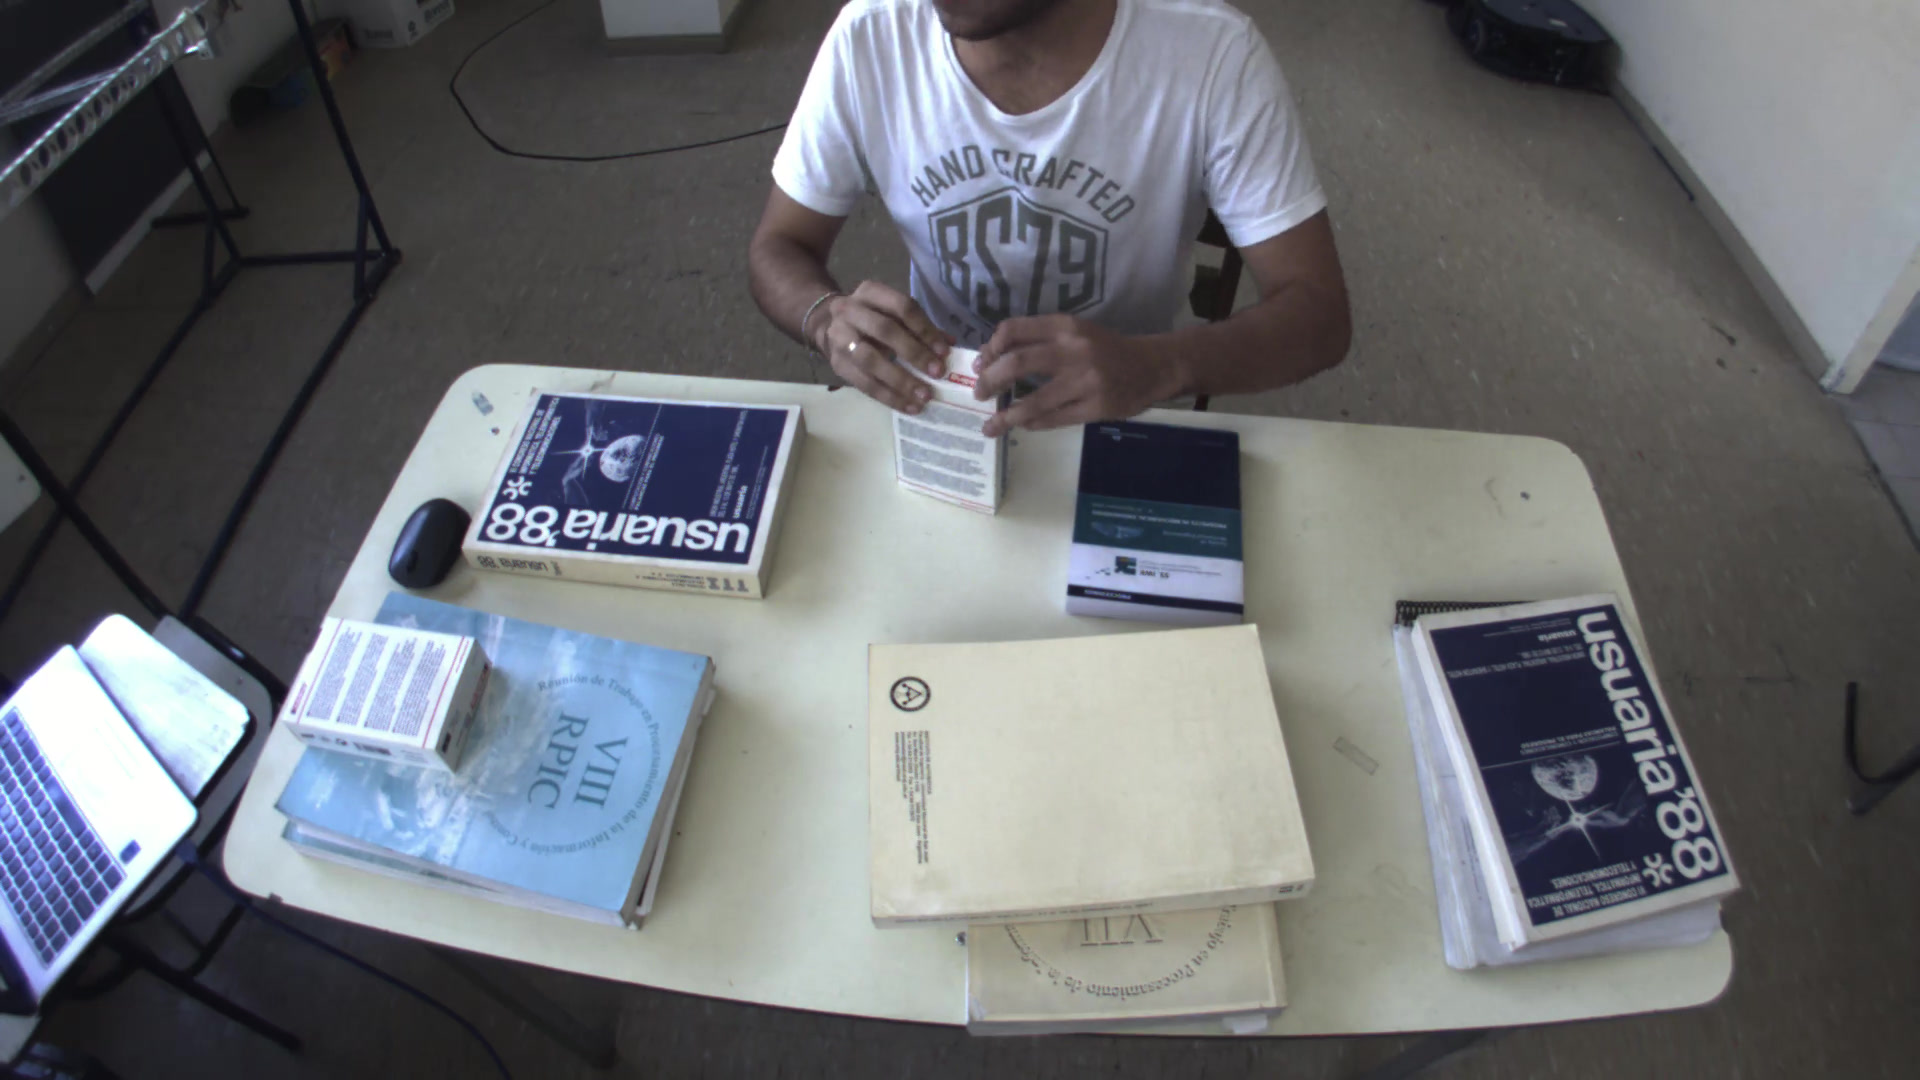hand: (967, 299, 1172, 448), (800, 268, 955, 414)
